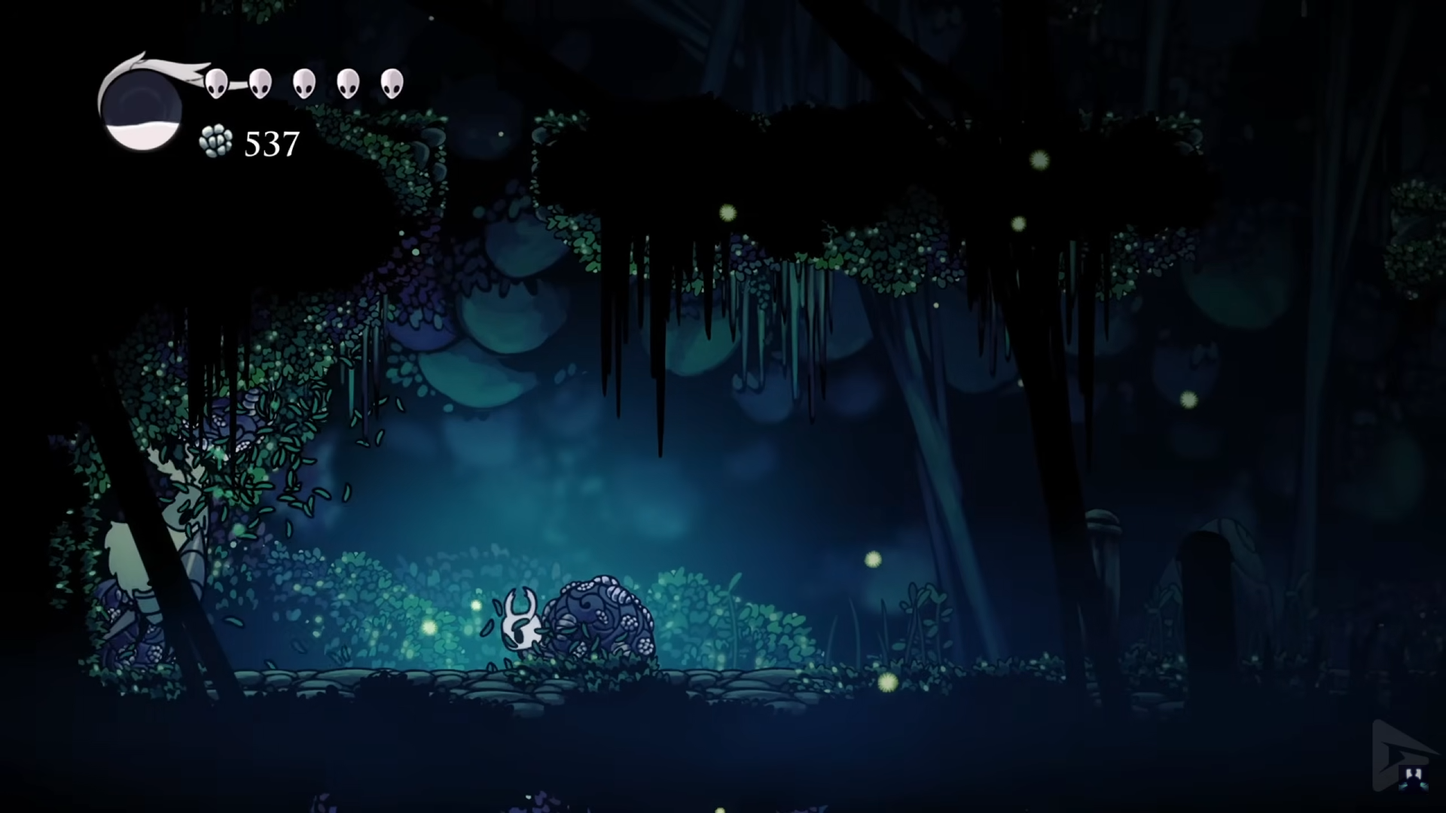HK: (495, 585, 545, 669)
